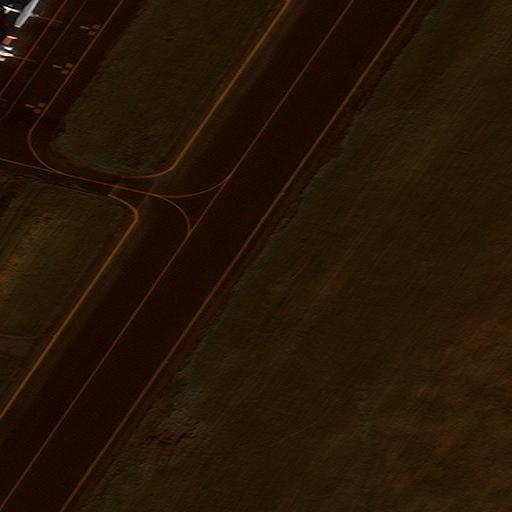Small Civil Transport: (0, 0, 40, 29), (0, 35, 15, 66)
